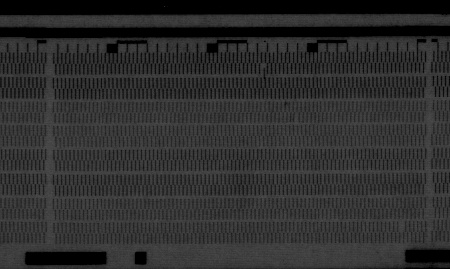Broken hole: (396, 221, 408, 234)
Oblique printing: (257, 63, 270, 77), (290, 112, 301, 123)
